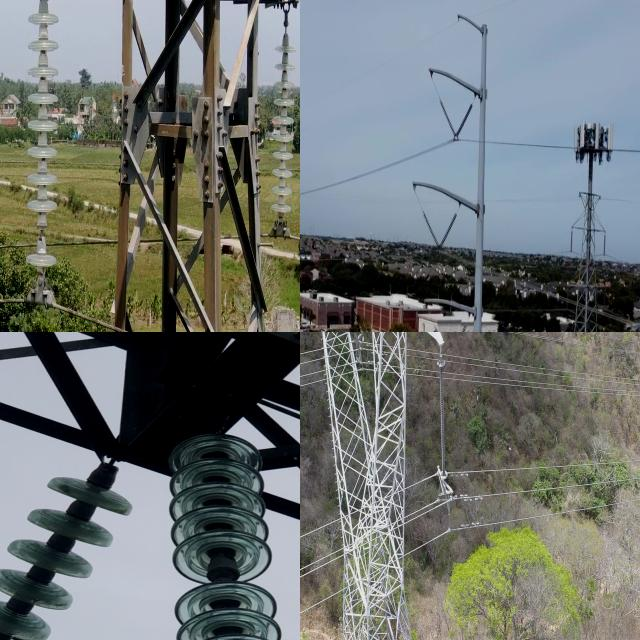杆塔: (18, 0, 300, 332), (300, 332, 462, 640), (561, 177, 612, 332)
正常绝缘子: (162, 423, 300, 640), (0, 450, 152, 640), (22, 0, 62, 300), (268, 5, 300, 251), (431, 346, 451, 497), (435, 210, 459, 256), (437, 97, 459, 142), (421, 211, 442, 256), (452, 101, 474, 143), (597, 222, 610, 270), (566, 222, 576, 265), (432, 322, 442, 332)
绝缘子破损: (204, 561, 241, 581), (37, 218, 46, 246)
